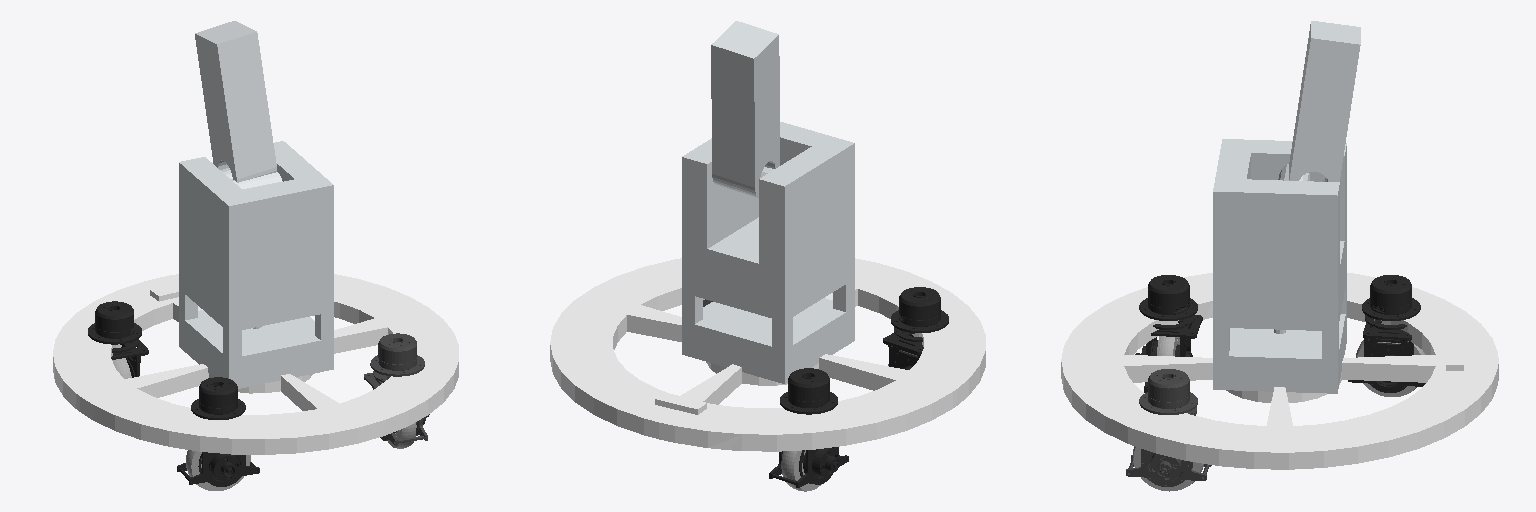
--- Facts derived from the render (not from the file) ---
3 views of the same robot in one strip: view 1: azimuth 30°, elevation 25°; view 2: azimuth 150°, elevation 25°; view 3: azimuth 270°, elevation 25° (orthographic).
Model sentry9 with 17 links and 16 joints (1 revolute, 11 continuous, 4 fixed), rooted at base_footprint, posed every joint at zero.
Links seen in each view (by area): view 1: base_link, Yaw_Link, Pitch_Link, Heading_Right_Back_Link, Heading_Left_Back_link, Heading_Right_Front_link, Driving_Right_Back_Link; view 2: base_link, Yaw_Link, Pitch_Link, Heading_Left_Back_link, Heading_Right_Back_Link, Driving_Left_back_Link; view 3: base_link, Yaw_Link, Pitch_Link, Heading_Left_Back_link, Heading_Right_Front_link, Heading_Right_Back_Link.
Boxes of the visible links, x1=… form: base_link: x1=53, y1=274, x2=458, y2=454; Yaw_Link: x1=179, y1=141, x2=333, y2=388; Pitch_Link: x1=195, y1=21, x2=276, y2=182; Heading_Right_Back_Link: x1=177, y1=377, x2=259, y2=486; Heading_Left_Back_link: x1=88, y1=301, x2=148, y2=377; Heading_Right_Front_link: x1=364, y1=333, x2=429, y2=445; Driving_Right_Back_Link: x1=186, y1=450, x2=250, y2=490; base_link: x1=550, y1=258, x2=985, y2=451; Yaw_Link: x1=682, y1=122, x2=854, y2=383; Pitch_Link: x1=711, y1=21, x2=779, y2=198; Heading_Left_Back_link: x1=769, y1=368, x2=848, y2=487; Heading_Right_Back_Link: x1=883, y1=287, x2=948, y2=369; Driving_Left_back_Link: x1=781, y1=450, x2=821, y2=491; base_link: x1=1061, y1=273, x2=1498, y2=469; Yaw_Link: x1=1213, y1=139, x2=1346, y2=393; Pitch_Link: x1=1289, y1=21, x2=1360, y2=181; Heading_Left_Back_link: x1=1348, y1=275, x2=1425, y2=392; Heading_Right_Front_link: x1=1126, y1=369, x2=1211, y2=486; Heading_Right_Back_Link: x1=1135, y1=275, x2=1202, y2=392.
Size in the robot's own frame: 0.6997 by 0.7 by 0.7282 metres.
9 mesh visuals loaded from 16 distinct referenced files (9 binary STL); not drawn: 7 (reference not matched to a file when rendering).

URDF robot description (sentry9):
<?xml version="1.0" encoding="utf-8"?>
<!-- This URDF was automatically created by SolidWorks to URDF Exporter! Originally created by Stephen Brawner ([email redacted]) 
     Commit Version: 1.6.0-4-g7f85cfe  Build Version: 1.6.7995.38578
     For more information, please see http://wiki.ros.org/sw_urdf_exporter -->
<robot
  name="sentry9">
  <link
    name="base_link">
    <inertial>
      <origin
        xyz="0.00225297070027259 0.0021561284245786 0.0235031309630918"
        rpy="0 0 0" />
      <mass
        value="4.42503101633294" />
      <inertia
        ixx="0.0160955362042838"
        ixy="-4.37751798666585E-07"
        ixz="-3.76131129209663E-05"
        iyy="0.00951260621260376"
        iyz="-1.23241554900005E-05"
        izz="0.0235407659569457" />
    </inertial>
    <visual>
      <origin
        xyz="0 0 0"
        rpy="0 0 0" />
      <geometry>
        <mesh
          filename="package://sentry9/meshes/base_link.STL" />
      </geometry>
      <material
        name="">
        <color
          rgba="1 1 1 1" />
      </material>
    </visual>
    <collision>
      <origin
        xyz="0 0 0"
        rpy="0 0 0" />
      <geometry>
        <mesh
          filename="package://sentry9/meshes/base_link.STL" />
      </geometry>
    </collision>
  </link>



<link name="base_footprint">
   </link>


  <joint
    name="footprint2baselink"
    type="fixed">
    <origin
      xyz="0 0 0.3"
      rpy="0 0 0" />
    <parent
      link="base_footprint" />
    <child
      link="base_link" />
  </joint>



  <link
    name="Heading_Left_Front_Link">
    <inertial>
      <origin
        xyz="0.000327088899147732 0.00203413083857223 -0.0346740035294639"
        rpy="0 0 0" />
      <mass
        value="0.70269597713817" />
      <inertia
        ixx="0.000344054568245934"
        ixy="1.44356624989042E-05"
        ixz="4.30992500251002E-07"
        iyy="0.000434102546909307"
        iyz="3.89337584122031E-07"
        izz="0.000452885587921925" />
    </inertial>
    <visual>
      <origin
        xyz="0 0 0"
        rpy="0 0 0" />
      <geometry>
        <mesh
          filename="package://sentry9/meshes/Heading_Left_Front_Link.STL" />
      </geometry>
      <material
        name="">
        <color
          rgba="0.203921568627451 0.203921568627451 0.203921568627451 1" />
      </material>
    </visual>
    <collision>
      <origin
        xyz="0 0 0"
        rpy="0 0 0" />
      <geometry>
        <mesh
          filename="package://sentry9/meshes/Heading_Left_Front_Link.STL" />
      </geometry>
    </collision>
  </link>
  <joint
    name="Heading_Left_Front_Joint"
    type="continuous">
    <origin
      xyz="0.178 0.178 0.042"
      rpy="0 0 0" />
    <parent
      link="base_link" />
    <child
      link="Heading_Left_Front_Link" />
    <axis
      xyz="0 0 1" />
  </joint>
  <link
    name="Driving_Left_Front_Link">
    <inertial>
      <origin
        xyz="-0.00614745666963601 -0.0410307142735137 -7.63278329429795E-17"
        rpy="0 0 0" />
      <mass
        value="0.2729799494341" />
      <inertia
        ixx="0.000310662933362954"
        ixy="4.06306257516411E-05"
        ixz="1.84256237395161E-19"
        iyy="0.000575761324526438"
        iyz="5.90527327364396E-19"
        izz="0.000304575420247696" />
    </inertial>
    <visual>
      <origin
        xyz="0 0 0"
        rpy="0 0 0" />
      <geometry>
        <mesh
          filename="package://sentry9/meshes/Driving_Left_Front_Link.STL" />
      </geometry>
      <material
        name="">
        <color
          rgba="0.498039215686275 0.498039215686275 0.498039215686275 1" />
      </material>
    </visual>
    <collision>
      <origin
        xyz="0 0 0"
        rpy="0 0 0" />
      <geometry>
        <mesh
          filename="package://sentry9/meshes/Driving_Left_Front_Link.STL" />
      </geometry>
    </collision>
  </link>
  <joint
    name="Driving_Left_Front_Joint"
    type="continuous">
    <origin
      xyz="0.0062232 0.041536 -0.0993"
      rpy="0 0 0" />
    <parent
      link="Heading_Left_Front_Link" />
    <child
      link="Driving_Left_Front_Link" />
    <axis
      xyz="-0.14817 -0.98896 0" />
  </joint>
  <link
    name="Heading_Left_Back_link">
    <inertial>
      <origin
        xyz="-0.00185369374070293 0.000300550149383016 -0.0339698001150252"
        rpy="0 0 0" />
      <mass
        value="0.687442415270207" />
      <inertia
        ixx="0.00043445619263871"
        ixy="-1.39837821126049E-05"
        ixz="-3.89337541412287E-07"
        iyy="0.000347356550512787"
        iyz="4.30992933776622E-07"
        izz="0.000463291748719571" />
    </inertial>
    <visual>
      <origin
        xyz="0 0 0"
        rpy="0 0 0" />
      <geometry>
        <mesh
          filename="package://sentry9/meshes/Heading_Left_Back_link.STL" />
      </geometry>
      <material
        name="">
        <color
          rgba="0.203921568627451 0.203921568627451 0.203921568627451 1" />
      </material>
    </visual>
    <collision>
      <origin
        xyz="0 0 0"
        rpy="0 0 0" />
      <geometry>
        <mesh
          filename="package://sentry9/meshes/Heading_Left_Back_link.STL" />
      </geometry>
    </collision>
  </link>
  <joint
    name="Heading_Left_Back_Joint"
    type="continuous">
    <origin
      xyz="-0.178 0.178 0.042"
      rpy="0 0 0" />
    <parent
      link="base_link" />
    <child
      link="Heading_Left_Back_link" />
    <axis
      xyz="0 0 1" />
  </joint>
  <link
    name="Driving_Left_back_Link">
    <inertial>
      <origin
        xyz="0.0410307142735137 -0.00614745666963609 0"
        rpy="0 0 0" />
      <mass
        value="0.2729799494341" />
      <inertia
        ixx="0.000575761324526438"
        ixy="-4.06306257516413E-05"
        ixz="1.01045361243015E-19"
        iyy="0.000310662933362954"
        iyz="1.7382100922574E-19"
        izz="0.000304575420247696" />
    </inertial>
    <visual>
      <origin
        xyz="0 0 0"
        rpy="0 0 0" />
      <geometry>
        <mesh
          filename="package://sentry9/meshes/Driving_Left_back_Link.STL" />
      </geometry>
      <material
        name="">
        <color
          rgba="0.698039215686274 0.698039215686274 0.698039215686274 1" />
      </material>
    </visual>
    <collision>
      <origin
        xyz="0 0 0"
        rpy="0 0 0" />
      <geometry>
        <mesh
          filename="package://sentry9/meshes/Driving_Left_back_Link.STL" />
      </geometry>
    </collision>
  </link>

  <joint
    name="Driving_Left_back_Joint"
    type="continuous">
    <origin
      xyz="-0.041536 0.0062232 -0.0993"
      rpy="0 0 0" />
    <parent
      link="Heading_Left_Back_link" />
    <child
      link="Driving_Left_back_Link" />
    <axis
      xyz="0.98896 -0.14817 0" />
  </joint>
  <link
    name="Heading_Right_Front_link">
    <inertial>
      <origin
        xyz="0.00185369374329517 -0.000300550147229545 -0.0339698001040521"
        rpy="0 0 0" />
      <mass
        value="0.68744241513136" />
      <inertia
        ixx="0.000434456192641999"
        ixy="-1.39837821131444E-05"
        ixz="3.89337547879156E-07"
        iyy="0.000347356550518619"
        iyz="-4.30992936777688E-07"
        izz="0.000463291748721908" />
    </inertial>
    <visual>
      <origin
        xyz="0 0 0"
        rpy="0 0 0" />
      <geometry>
        <mesh
          filename="package://sentry9/meshes/Heading_Right_Front_link.STL" />
      </geometry>
      <material
        name="">
        <color
          rgba="0.333333333333333 0.333333333333333 0.333333333333333 1" />
      </material>
    </visual>
    <collision>
      <origin
        xyz="0 0 0"
        rpy="0 0 0" />
      <geometry>
        <mesh
          filename="package://sentry9/meshes/Heading_Right_Front_link.STL" />
      </geometry>
    </collision>
  </link>
  <joint
    name="Heading_Right_Front_Joint"
    type="continuous">
    <origin
      xyz="0.178 -0.178 0.042"
      rpy="0 0 0" />
    <parent
      link="base_link" />
    <child
      link="Heading_Right_Front_link" />
    <axis
      xyz="0 0 1" />
  </joint>
  <link
    name="Driving_Right_Front_Link">
    <inertial>
      <origin
        xyz="-0.0410307142735136 0.00614745666963606 3.33066907387547E-16"
        rpy="0 0 0" />
      <mass
        value="0.2729799494341" />
      <inertia
        ixx="0.000575761324526438"
        ixy="-4.06306257516409E-05"
        ixz="-2.126475495238E-18"
        iyy="0.000310662933362954"
        iyz="2.86832817431728E-19"
        izz="0.000304575420247696" />
    </inertial>
    <visual>
      <origin
        xyz="0 0 0"
        rpy="0 0 0" />
      <geometry>
        <mesh
          filename="package://sentry9/meshes/Driving_Right_Front_Link.STL" />
      </geometry>
      <material
        name="">
        <color
          rgba="0.698039215686274 0.698039215686274 0.698039215686274 1" />
      </material>
    </visual>
    <collision>
      <origin
        xyz="0 0 0"
        rpy="0 0 0" />
      <geometry>
        <mesh
          filename="package://sentry9/meshes/Driving_Right_Front_Link.STL" />
      </geometry>
    </collision>
  </link>
  <joint
    name="Driving_Right_Front_Joint"
    type="continuous">
    <origin
      xyz="0.041536 -0.0062232 -0.0993"
      rpy="0 0 0" />
    <parent
      link="Heading_Right_Front_link" />
    <child
      link="Driving_Right_Front_Link" />
    <axis
      xyz="-0.98896 0.14817 0" />
  </joint>
  <link
    name="Heading_Right_Back_Link">
    <inertial>
      <origin
        xyz="-0.000280515778898149 -0.00171859968040594 -0.0337632364190828"
        rpy="0 0 0" />
      <mass
        value="0.68527429688982" />
      <inertia
        ixx="0.000347240930609659"
        ixy="1.39806628441215E-05"
        ixz="-4.30009078204328E-07"
        iyy="0.000434319886217517"
        iyz="-3.89435384002671E-07"
        izz="0.000463176588814637" />
    </inertial>
    <visual>
      <origin
        xyz="0 0 0"
        rpy="0 0 0" />
      <geometry>
        <mesh
          filename="package://sentry9/meshes/Heading_Right_Back_Link.STL" />
      </geometry>
      <material
        name="">
        <color
          rgba="0.203921568627451 0.203921568627451 0.203921568627451 1" />
      </material>
    </visual>
    <collision>
      <origin
        xyz="0 0 0"
        rpy="0 0 0" />
      <geometry>
        <mesh
          filename="package://sentry9/meshes/Heading_Right_Back_Link.STL" />
      </geometry>
    </collision>
  </link>
  <joint
    name="Heading_Right_Back_Joint"
    type="continuous">
    <origin
      xyz="-0.178 -0.178 0.042"
      rpy="0 0 0" />
    <parent
      link="base_link" />
    <child
      link="Heading_Right_Back_Link" />
    <axis
      xyz="0 0 1" />
  </joint>
  <link
    name="Driving_Right_Back_Link">
    <inertial>
      <origin
        xyz="0.00614745666963606 0.0410307142735137 2.15105711021124E-16"
        rpy="0 0 0" />
      <mass
        value="0.2729799494341" />
      <inertia
        ixx="0.000310662933362954"
        ixy="4.0630625751641E-05"
        ixz="1.63280924992022E-19"
        iyy="0.000575761324526438"
        iyz="1.32618806047301E-18"
        izz="0.000304575420247696" />
    </inertial>
    <visual>
      <origin
        xyz="0 0 0"
        rpy="0 0 0" />
      <geometry>
        <mesh
          filename="package://sentry9/meshes/Driving_Right_Back_Link.STL" />
      </geometry>
      <material
        name="">
        <color
          rgba="0.698039215686274 0.698039215686274 0.698039215686274 1" />
      </material>
    </visual>
    <collision>
      <origin
        xyz="0 0 0"
        rpy="0 0 0" />
      <geometry>
        <mesh
          filename="package://sentry9/meshes/Driving_Right_Back_Link.STL" />
      </geometry>
    </collision>
  </link>
  <joint
    name="Driving_Right_Back_Joint"
    type="continuous">
    <origin
      xyz="-0.0062232 -0.041536 -0.0993"
      rpy="0 0 0" />
    <parent
      link="Heading_Right_Back_Link" />
    <child
      link="Driving_Right_Back_Link" />
    <axis
      xyz="0.14817 0.98896 0" />
  </joint>
  <link
    name="Yaw_Link">
    <inertial>
      <origin
        xyz="-0.0297189846737023 0.0306277119771997 0.15517250716792"
        rpy="0 0 0" />
      <mass
        value="4.47556835051149" />
      <inertia
        ixx="0.0114045976693997"
        ixy="-1.77303394355185E-05"
        ixz="0.000210898162131933"
        iyy="0.0100198248629364"
        iyz="-1.55714247876524E-06"
        izz="0.0140882406694329" />
    </inertial>
    <visual>
      <origin
        xyz="0 0 0"
        rpy="0 0 0" />
      <geometry>
        <mesh
          filename="package://sentry9/meshes/Yaw_Link.STL" />
      </geometry>
      <material
        name="">
        <color
          rgba="0.898039215686275 0.917647058823529 0.929411764705882 1" />
      </material>
    </visual>
    <collision>
      <origin
        xyz="0 0 0"
        rpy="0 0 0" />
      <geometry>
        <mesh
          filename="package://sentry9/meshes/Yaw_Link.STL" />
      </geometry>
    </collision>
  </link>
  <joint
    name="Yaw_Joint"
    type="continuous">
    <origin
      xyz="0 0 0.081"
      rpy="0 0 0" />
    <parent
      link="base_link" />
    <child
      link="Yaw_Link" />
    <axis
      xyz="0 0 -1" />
  </joint>
  <link
    name="Pitch_Link">
    <inertial>
      <origin
        xyz="0.0636983717298516 -0.0536021170514228 0.0278206209890751"
        rpy="0 0 0" />
      <mass
        value="0.792372058279168" />
      <inertia
        ixx="0.000664535673801091"
        ixy="4.62476804335301E-07"
        ixz="1.36028186071488E-05"
        iyy="0.00149259274595659"
        iyz="-3.38492271350782E-07"
        izz="0.00115988290025129" />
    </inertial>
    <visual>
      <origin
        xyz="0 0 0"
        rpy="0 0 0" />
      <geometry>
        <mesh
          filename="package://sentry9/meshes/Pitch_Link.STL" />
      </geometry>
      <material
        name="">
        <color
          rgba="0.898039215686275 0.917647058823529 0.929411764705882 1" />
      </material>
    </visual>
    <collision>
      <origin
        xyz="0 0 0"
        rpy="0 0 0" />
      <geometry>
        <mesh
          filename="package://sentry9/meshes/Pitch_Link.STL" />
      </geometry>
    </collision>
  </link>
  <joint
    name="Pitch_Joint"
    type="revolute">
    <origin
      xyz="0.01 0.054 0.2766"
      rpy="0 0 0" />
    <parent
      link="Yaw_Link" />
    <child
      link="Pitch_Link" />
    <axis
      xyz="0 -1 0" />
    <limit
      lower="-1"
      upper="1"
      effort="1"
      velocity="1" />
  </joint>
  <link
    name="Camera_Link">
    <inertial>
      <origin
        xyz="-0.0274889033376683 0.000150005325815505 -0.00772423316738879"
        rpy="0 0 0" />
      <mass
        value="0.0367240036538109" />
      <inertia
        ixx="5.21531598669864E-06"
        ixy="4.31203587568392E-09"
        ixz="3.05359921710556E-07"
        iyy="3.05455837376716E-06"
        iyz="-1.0060479635813E-08"
        izz="3.95383253794392E-06" />
    </inertial>
    <visual>
      <origin
        xyz="0 0 0"
        rpy="0 0 0" />
      <geometry>
        <mesh
          filename="package://sentry9/meshes/Camera_Link.STL" />
      </geometry>
      <material
        name="">
        <color
          rgba="0.294117647058824 0.294117647058824 0.294117647058824 1" />
      </material>
    </visual>
    <collision>
      <origin
        xyz="0 0 0"
        rpy="0 0 0" />
      <geometry>
        <mesh
          filename="package://sentry9/meshes/Camera_Link.STL" />
      </geometry>
    </collision>
  </link>
  <joint
    name="Camera_Joint"
    type="fixed">
    <origin
      xyz="0.1746 -0.0541 0.10112"
      rpy="0 0 0" />
    <parent
      link="Pitch_Link" />
    <child
      link="Camera_Link" />
    <axis
      xyz="0 0 0" />
  </joint>
  <link
    name="IMU_Link">
    <inertial>
      <origin
        xyz="0.0119420335802319 -0.00131044477857726 -0.0153665401790671"
        rpy="0 0 0" />
      <mass
        value="0.0226845890584115" />
      <inertia
        ixx="6.5902688246115E-06"
        ixy="9.73102298220605E-08"
        ixz="-6.90508191446049E-07"
        iyy="3.34425724535331E-06"
        iyz="1.03898756503395E-07"
        izz="9.39615099651819E-06" />
    </inertial>
    <visual>
      <origin
        xyz="0 0 0"
        rpy="0 0 0" />
      <geometry>
        <mesh
          filename="package://sentry9/meshes/IMU_Link.STL" />
      </geometry>
      <material
        name="">
        <color
          rgba="0.792156862745098 0.819607843137255 0.933333333333333 1" />
      </material>
    </visual>
    <collision>
      <origin
        xyz="0 0 0"
        rpy="0 0 0" />
      <geometry>
        <mesh
          filename="package://sentry9/meshes/IMU_Link.STL" />
      </geometry>
    </collision>
  </link>
  <joint
    name="IMU_Joint"
    type="fixed">
    <origin
      xyz="-0.030681 -0.0541 0.094939"
      rpy="0 0 0" />
    <parent
      link="Pitch_Link" />
    <child
      link="IMU_Link" />
    <axis
      xyz="0 0 0" />
  </joint>
  <link
    name="Laser_Link">
    <inertial>
      <origin
        xyz="-0.000243768363515523 1.68373030667576E-06 0.0354698758043828"
        rpy="0 0 0" />
      <mass
        value="0.124623929963422" />
      <inertia
        ixx="3.64034890751659E-05"
        ixy="-6.50149904285924E-09"
        ixz="3.15422790274066E-07"
        iyy="3.96287690028152E-05"
        iyz="-2.91455786600563E-09"
        izz="5.80811525687162E-05" />
    </inertial>
    <visual>
      <origin
        xyz="0 0 0"
        rpy="0 0 0" />
      <geometry>
        <mesh
          filename="package://sentry9/meshes/Laser_Link.STL" />
      </geometry>
      <material
        name="">
        <color
          rgba="0.792156862745098 0.819607843137255 0.933333333333333 1" />
      </material>
    </visual>
    <collision>
      <origin
        xyz="0 0 0"
        rpy="0 0 0" />
      <geometry>
        <mesh
          filename="package://sentry9/meshes/Laser_Link.STL" />
      </geometry>
    </collision>
  </link>
  <joint
    name="Laser_Joint"
    type="fixed">
    <origin
      xyz="0 0 0.041503"
      rpy="0 0 0" />
    <parent
      link="Yaw_Link" />
    <child
      link="Laser_Link" />
    <axis
      xyz="0 0 0" />
  </joint>
  <link
    name="Left_Trigger_Link">
    <inertial>
      <origin
        xyz="0.000131868259327483 -2.92919655804566E-05 -0.0122980342088675"
        rpy="0 0 0" />
      <mass
        value="0.0483543155713259" />
      <inertia
        ixx="1.49278589230398E-05"
        ixy="-2.4786328749254E-08"
        ixz="-5.35155234169596E-08"
        iyy="1.48219091708572E-05"
        iyz="1.18884825047915E-08"
        izz="2.53514166910452E-05" />
    </inertial>
    <visual>
      <origin
        xyz="0 0 0"
        rpy="0 0 0" />
      <geometry>
        <mesh
          filename="package://sentry9/meshes/Left_Trigger_Link.STL" />
      </geometry>
      <material
        name="">
        <color
          rgba="0.113725490196078 0.113725490196078 0.113725490196078 1" />
      </material>
    </visual>
    <collision>
      <origin
        xyz="0 0 0"
        rpy="0 0 0" />
      <geometry>
        <mesh
          filename="package://sentry9/meshes/Left_Trigger_Link.STL" />
      </geometry>
    </collision>
  </link>
  <joint
    name="Left_Trigger_Joint"
    type="continuous">
    <origin
      xyz="-0.1085 0.054456 0.18175"
      rpy="0 0 0" />
    <parent
      link="Yaw_Link" />
    <child
      link="Left_Trigger_Link" />
    <axis
      xyz="0 0 -1" />
  </joint>
  <link
    name="Rigth_Trigger_Link">
    <inertial>
      <origin
        xyz="0.000135070327744749 9.86910548915476E-07 -0.0122980327420787"
        rpy="0 0 0" />
      <mass
        value="0.0483543104594858" />
      <inertia
        ixx="1.49333647576202E-05"
        ixy="8.41450253409526E-10"
        ixz="-5.48188051098506E-08"
        iyy="1.48164032567288E-05"
        iyz="-4.06373355968659E-10"
        izz="2.53514162493935E-05" />
    </inertial>
    <visual>
      <origin
        xyz="0 0 0"
        rpy="0 0 0" />
      <geometry>
        <mesh
          filename="package://sentry9/meshes/Rigth_Trigger_Link.STL" />
      </geometry>
      <material
        name="">
        <color
          rgba="0.113725490196078 0.113725490196078 0.113725490196078 1" />
      </material>
    </visual>
    <collision>
      <origin
        xyz="0 0 0"
        rpy="0 0 0" />
      <geometry>
        <mesh
          filename="package://sentry9/meshes/Rigth_Trigger_Link.STL" />
      </geometry>
    </collision>
  </link>
  <joint
    name="Right_Trigger_Joint"
    type="continuous">
    <origin
      xyz="-0.1085 -0.054456 0.18175"
      rpy="0 0 0" />
    <parent
      link="Yaw_Link" />
    <child
      link="Rigth_Trigger_Link" />
    <axis
      xyz="0 0 -1" />
  </joint>


    <gazebo reference="base_link">
     <material>Gazebo/Grey</material>
     <turnGravityOff>false</turnGravityOff>
 </gazebo>

   <gazebo reference="Heading_Left_Front_Link">
     <material>Gazebo/White</material>
     <turnGravityOff>false</turnGravityOff>
 </gazebo>

   <gazebo reference="Heading_Left_Back_Link">
     <material>Gazebo/White</material>
     <turnGravityOff>false</turnGravityOff>
 </gazebo>

   <gazebo reference="Heading_Right_Front_Link">
     <material>Gazebo/White</material>
     <turnGravityOff>false</turnGravityOff>
 </gazebo>

   <gazebo reference="Heading_Right_Back_Link">
     <material>Gazebo/White</material>
     <turnGravityOff>false</turnGravityOff>
 </gazebo>

   <gazebo reference="Driving_Left_Front_Link">
     <material>Gazebo/Black</material>
     <turnGravityOff>false</turnGravityOff>
 </gazebo>

   <gazebo reference="Driving_Left_back_Link">
     <material>Gazebo/Black</material>
     <turnGravityOff>false</turnGravityOff>
 </gazebo>

    <gazebo reference="Driving_Right_Front_Link">
     <material>Gazebo/Black</material>
     <turnGravityOff>false</turnGravityOff>
 </gazebo>

   <gazebo reference="Driving_Right_Back_Link">
     <material>Gazebo/Black</material>
     <turnGravityOff>false</turnGravityOff>
 </gazebo>

   <gazebo reference="Laser_Link">
     <material>Gazebo/Red</material>
     <turnGravityOff>false</turnGravityOff>
 </gazebo>

    <gazebo reference="Yaw_Link">
     <material>Gazebo/LightGrey</material>
     <turnGravityOff>false</turnGravityOff>
 </gazebo>

     <gazebo reference="Pitch_Link">
     <material>Gazebo/Grey</material>
     <turnGravityOff>false</turnGravityOff>
 </gazebo>

<!--Kinect Camera-->
<gazebo reference="Camera_Link">
            <sensor type="depth" name="Camera">
                <always_on>true</always_on>
                <update_rate>20.0</update_rate>
                <camera>
                    <horizontal_fov>1</horizontal_fov>
                    <image>
                        <format>R8G8B8</format>
                        <width>640</width>
                        <height>480</height>
                    </image>
                    <clip>
                        <near>0.05</near>
                        <far>8.0</far>
                    </clip>
                </camera>
                <plugin name="kinect_Camera_controller" filename="libgazebo_ros_openni_kinect.so">
                    <cameraName>Kinect_camera</cameraName>
                    <alwaysOn>true</alwaysOn>
                    <updateRate>10</updateRate>
                    <imageTopicName>rgb/image_raw</imageTopicName>
                    <depthImageTopicName>depth/image_raw</depthImageTopicName>
                    <pointCloudTopicName>depth/points</pointCloudTopicName>
                    <cameraInfoTopicName>rgb/camera_info</cameraInfoTopicName>
                    <depthImageCameraInfoTopicName>depth/camera_info</depthImageCameraInfoTopicName>
                    <frameName>Camera_Link</frameName>
                    <baseline>0.1</baseline>
                    <distortion_k1>0.0</distortion_k1>
                    <distortion_k2>0.0</distortion_k2>
                    <distortion_k3>0.0</distortion_k3>
                    <distortion_t1>0.0</distortion_t1>
                    <distortion_t2>0.0</distortion_t2>
                    <pointCloudCutoff>0.4</pointCloudCutoff>
                </plugin>
            </sensor>
        </gazebo>
</robot>
